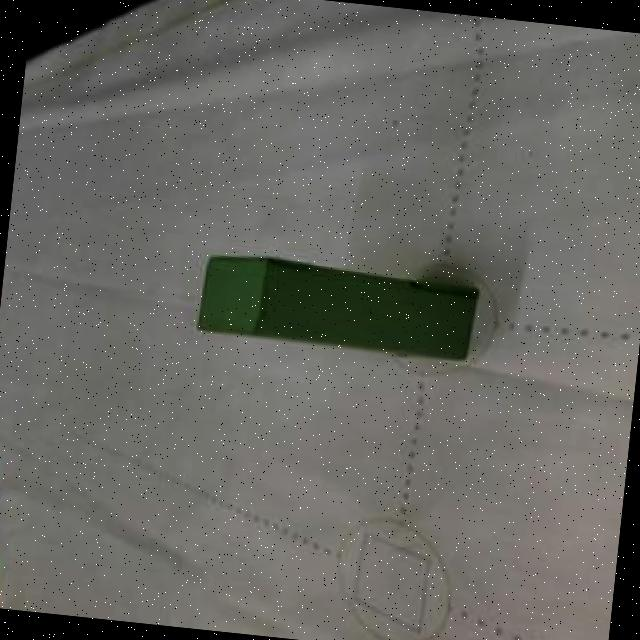greenbox: (193, 248, 478, 362)
